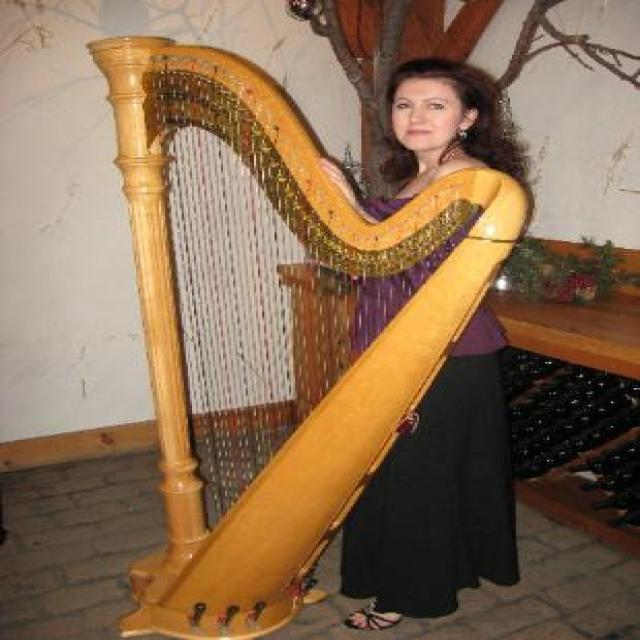harp: (87, 24, 544, 638)
